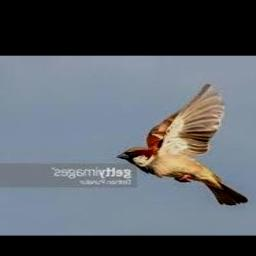Sparrow: (118, 84, 249, 205)
